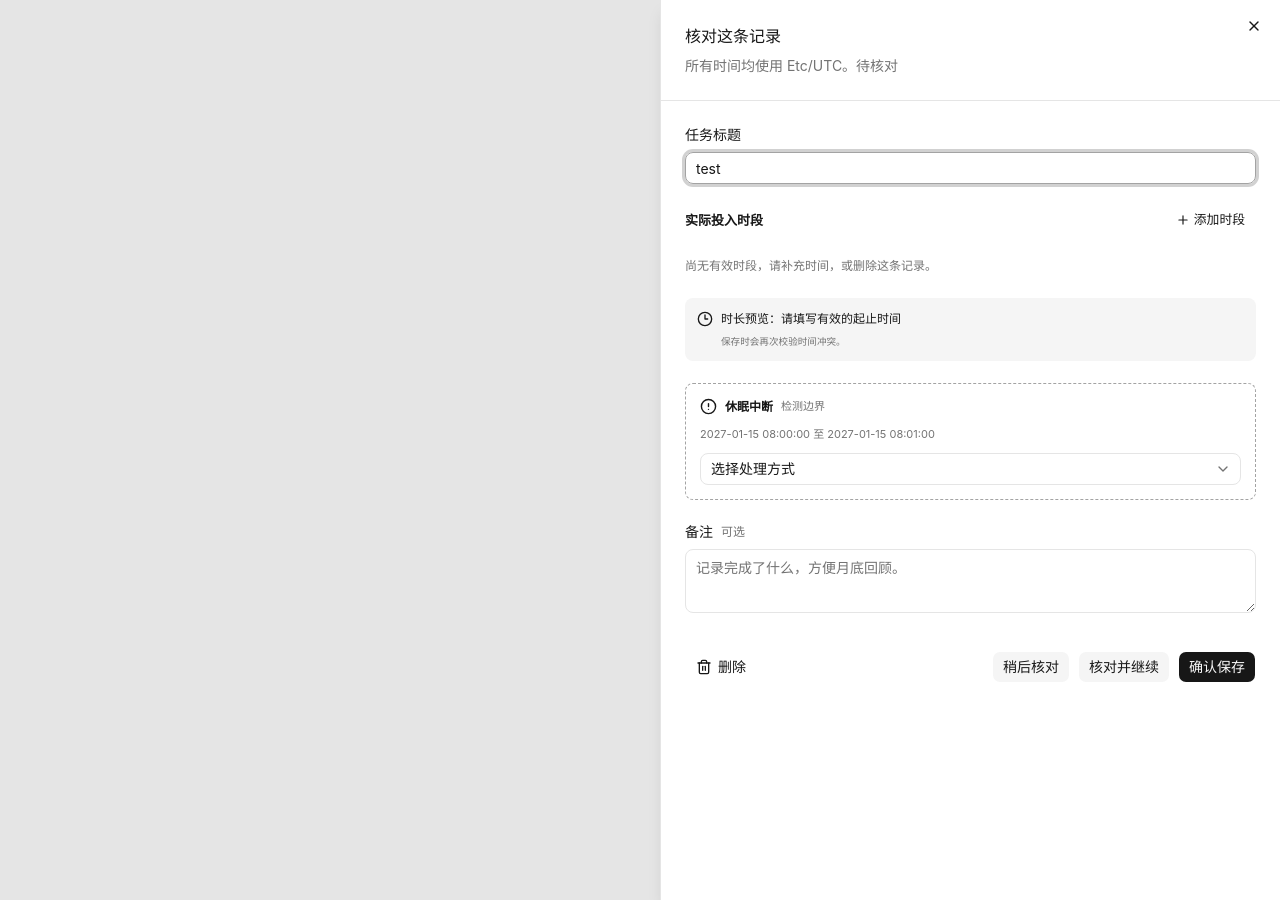
Test: removes the automatically included interval when exclusion is selected
Step 1. Select "计入，并添加候选时段" in the dropdown named "中断时间处理" → [970, 469], box [700,453,1241,485]
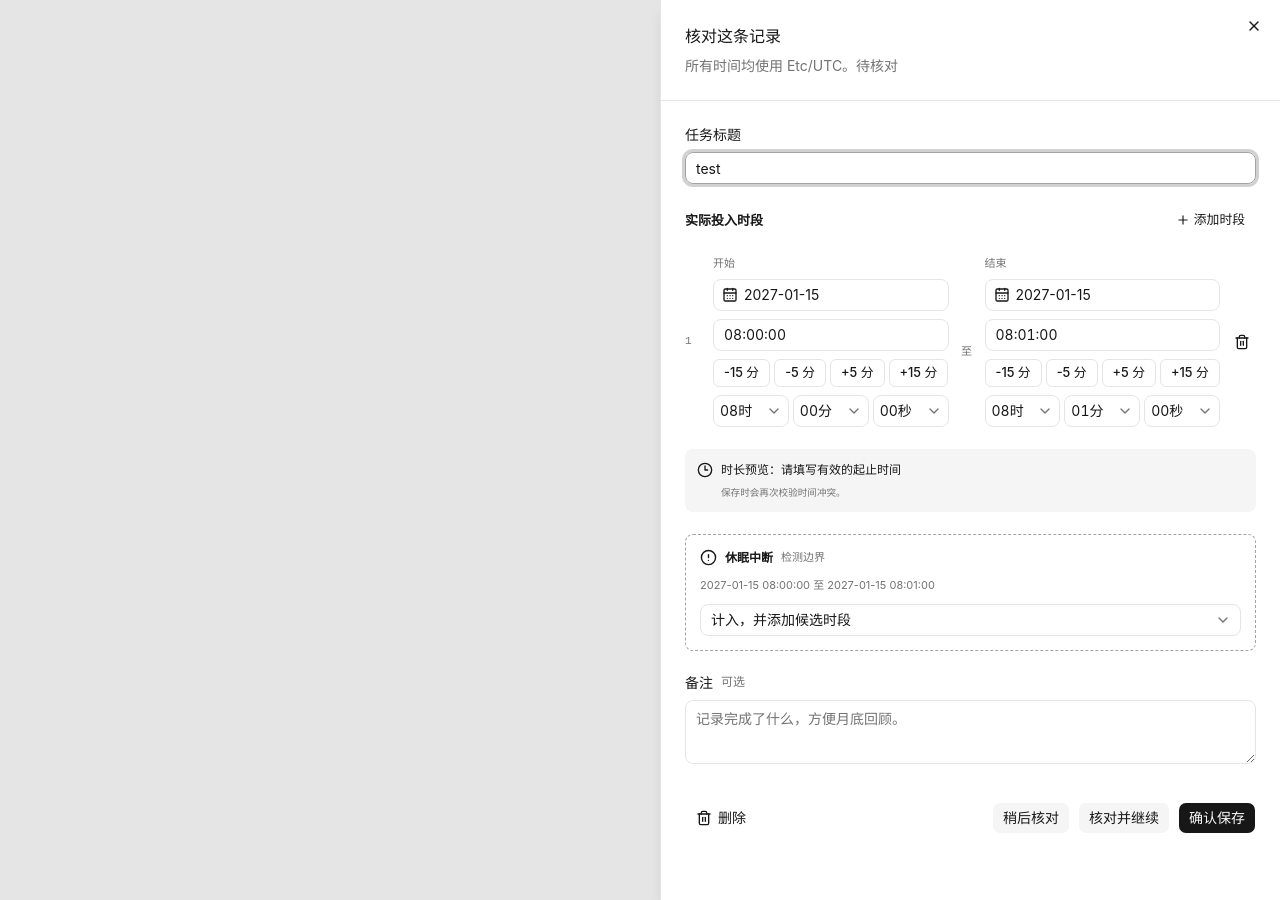
Now the element named "时段 1 开始" is shown, box [713,279,948,427]
Step 2. Select "排除（请检查上方时段）" in the dropdown named "中断时间处理" → [970, 620], box [700,604,1241,636]
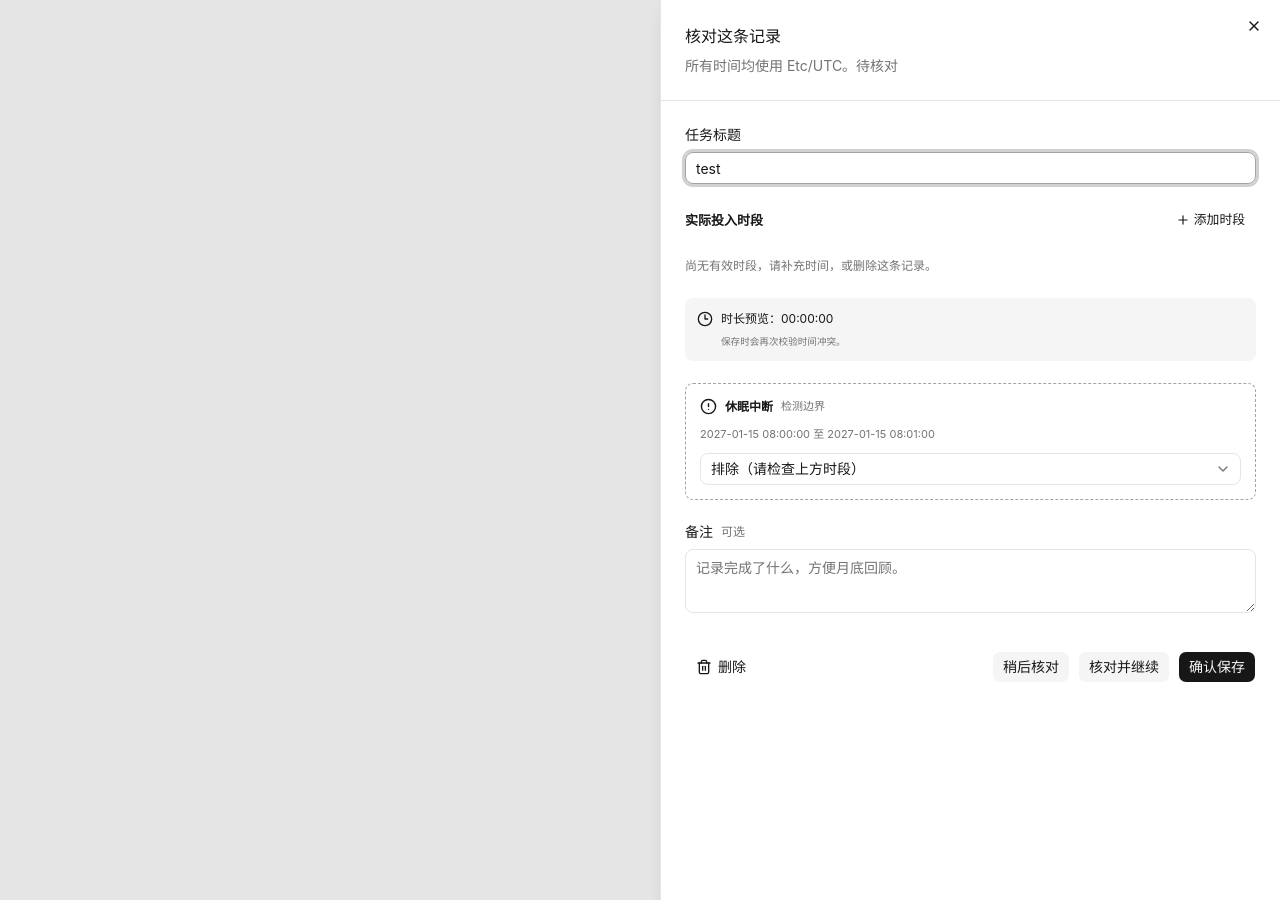
Now the form labelled "时段 1 开始" is gone
